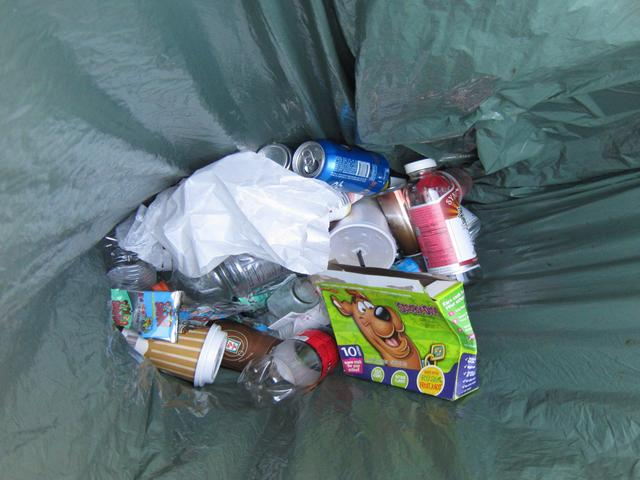garbage: (141, 207, 457, 393)
